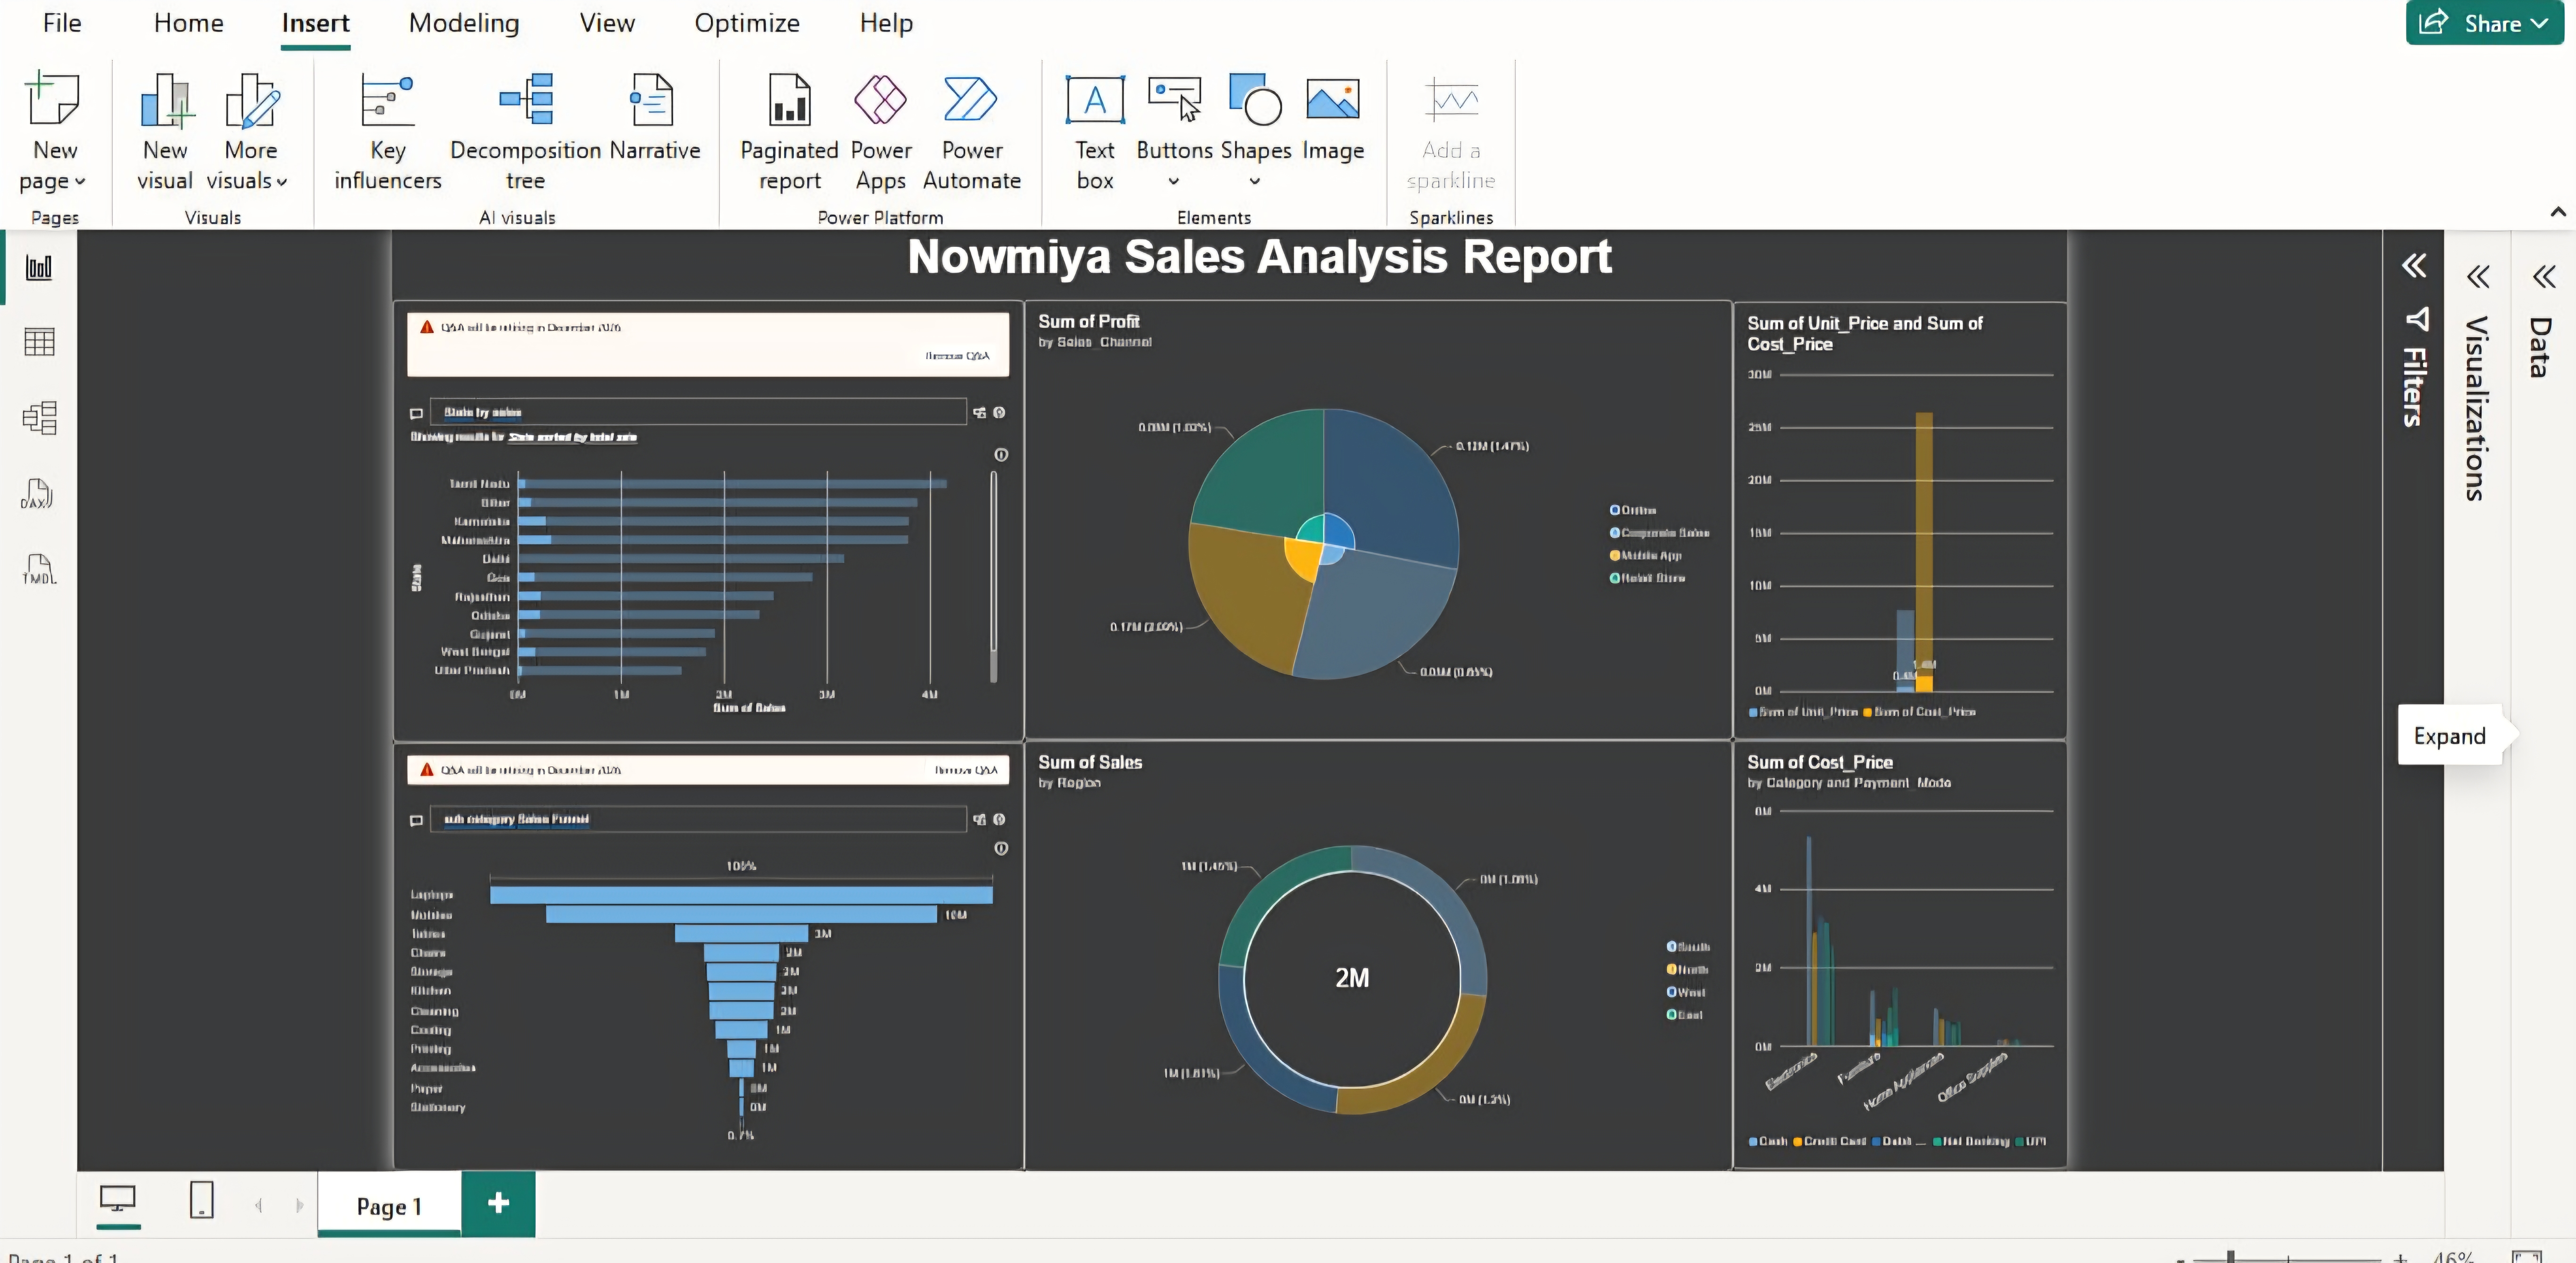

This screenshot's page, from the dashboard's own definition file:
{"tool":"powerbi","page":{"name":"Page 1","canvas":[1920,1080],"ordinal":0},"visuals":[{"type":"donutChart","fields":{"Category":["Sales_Data.Region"],"Y":["Sum(Sales_Data.Sales)"]},"box":[723.6,585.4,812.2,494.6],"z":0},{"type":"qnaVisual","box":[0,587.5,723.6,492.5],"z":1000},{"type":"pieChart","fields":{"Category":["Sales_Data.Sales_Channel"],"Y":["Sum(Sales_Data.Profit)"]},"box":[723.6,79.9,812.2,505.4],"z":2000},{"type":"qnaVisual","box":[0,79.9,723.6,507.6],"z":3000},{"type":"clusteredColumnChart","fields":{"Category":["Sales_Data.Category"],"Series":["Sales_Data.Payment_Mode"],"Y":["Sum(Sales_Data.Cost_Price)"]},"box":[1535.8,585.4,384.5,492.5],"z":4000},{"type":"clusteredColumnChart","fields":{"Y":["Sum(Sales_Data.Unit_Price)","Sum(Sales_Data.Cost_Price)"]},"box":[1535.8,82.1,384.5,503.3],"z":5000},{"type":"textbox","box":[100,100,300,300],"z":6000},{"type":"textbox","box":[100,100,300,300],"z":7000},{"type":"textbox","box":[100,100,300,300],"z":8000},{"type":"textbox","box":[589.7,0,1265.8,79.9],"z":10000}]}

Visuals, with their boxes on the page's 1920x1080 design canvas (x1, y1, x2, y2). These are canvas units, not pixel positions in the 2576x1263 screenshot, which may show the page scaled, cropped or inside an application window:
donutChart - Sales_Data.Region x Sum(Sales_Data.Sales): 724/585/1536/1080
qnaVisual: 0/588/724/1080
pieChart - Sales_Data.Sales_Channel x Sum(Sales_Data.Profit): 724/80/1536/585
qnaVisual: 0/80/724/588
clusteredColumnChart - Sales_Data.Category x Sales_Data.Payment_Mode: 1536/585/1920/1078
clusteredColumnChart - Sum(Sales_Data.Unit_Price) x Sum(Sales_Data.Cost_Price): 1536/82/1920/585
textbox: 100/100/400/400
textbox: 100/100/400/400
textbox: 100/100/400/400
textbox: 590/0/1856/80
